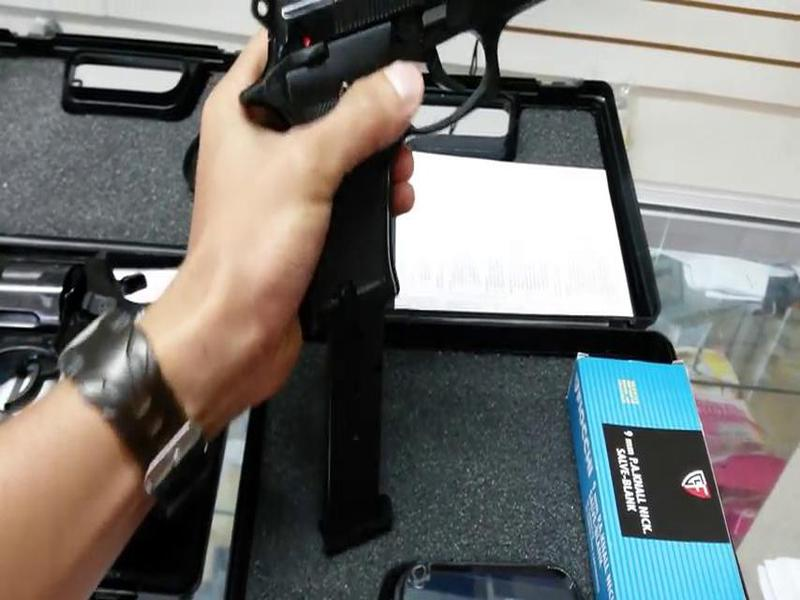Pistola: (227, 13, 525, 258)
